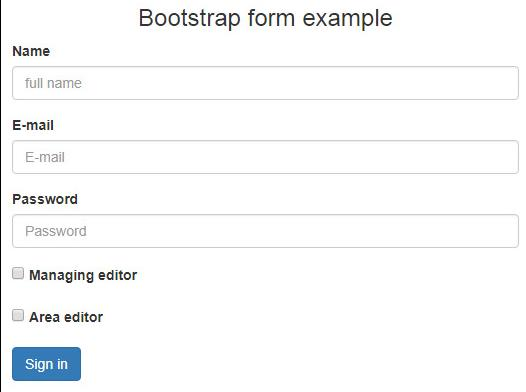button: (11, 345, 83, 383)
checkbox: (11, 264, 26, 284), (10, 307, 24, 325)
checkbox_with_label: (8, 262, 137, 286), (7, 305, 103, 326)
field: (10, 138, 522, 176), (10, 212, 522, 250), (10, 65, 520, 102)
field_with_label: (7, 118, 525, 178), (7, 45, 522, 104), (8, 193, 524, 251)
